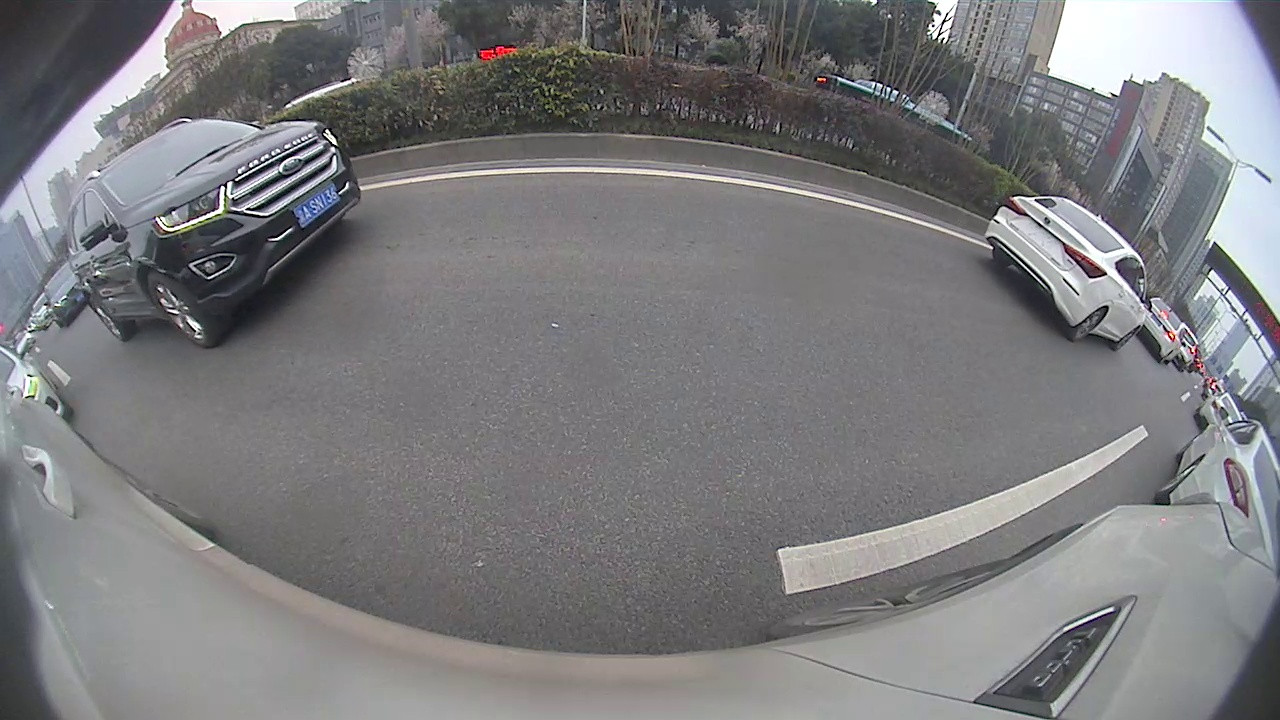car: (63, 116, 362, 350), (987, 193, 1153, 351), (1152, 406, 1277, 545), (1136, 295, 1189, 363)
front: (149, 275, 212, 349), (1115, 329, 1137, 354)
rear: (87, 294, 129, 342), (1071, 308, 1107, 341)
